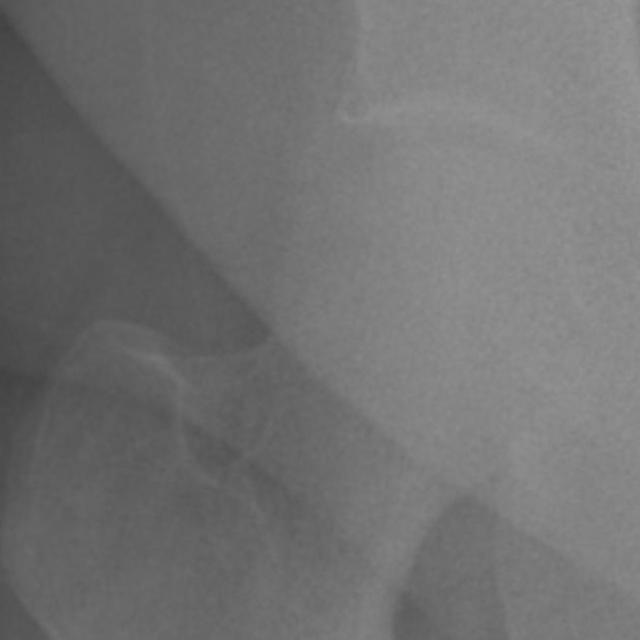Fitted_femural_head: (345, 146, 432, 345)
